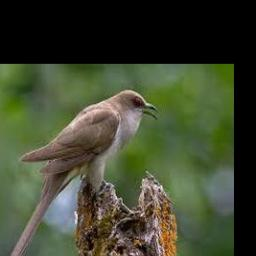Cuckoo: (2, 90, 159, 256)
